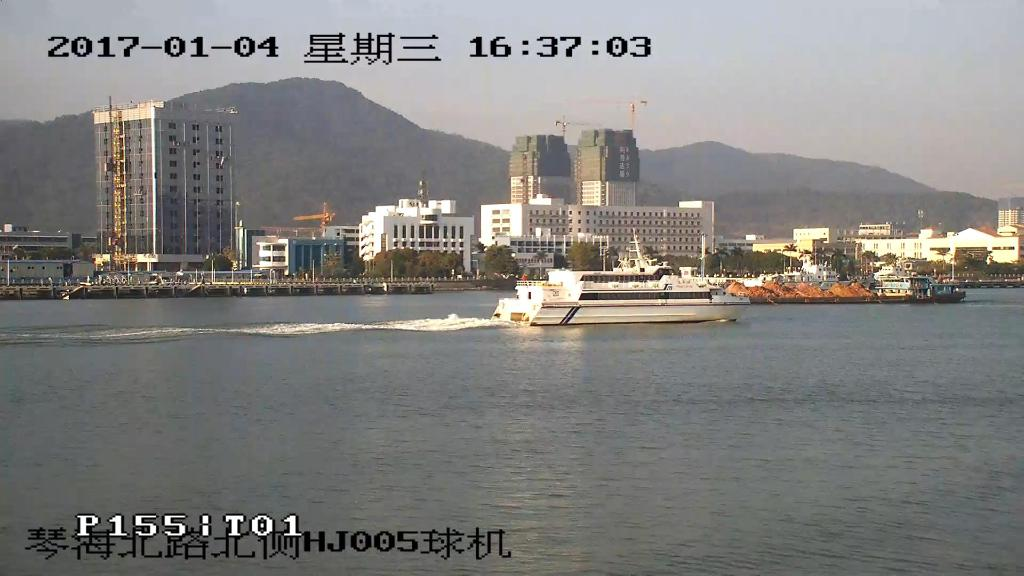PassengerShip: (486, 240, 754, 328)
